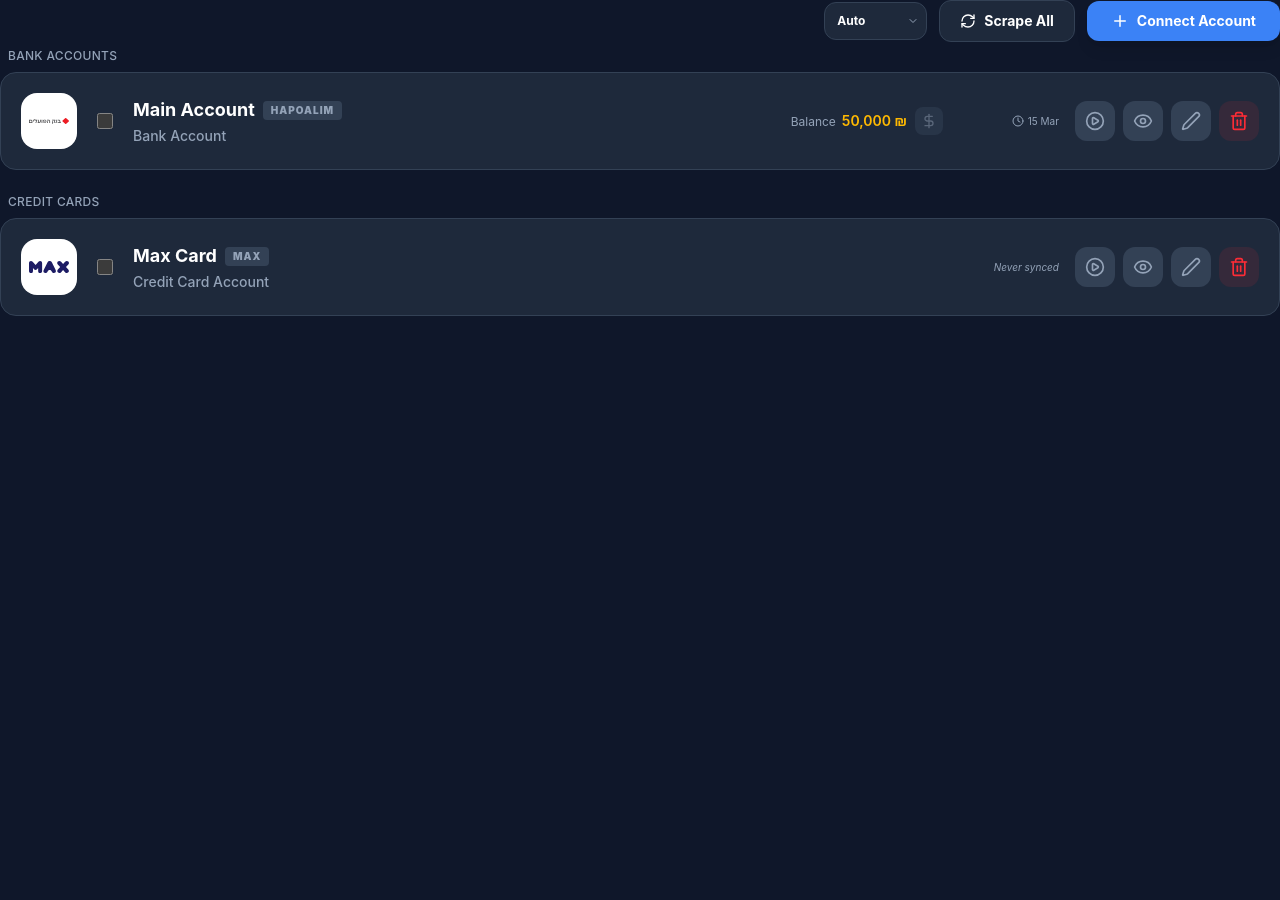
Test case: DataSources › disconnect account data choice › issues no request when the modal is cancelled
The width and height of the screenshot is (1280, 900).
Expected: the heading "Main Account" is shown, [133, 96, 255, 124]
Click the button named "disconnect account" in the row of "15 Mar" at (1239, 121), box [1219, 101, 1259, 141]
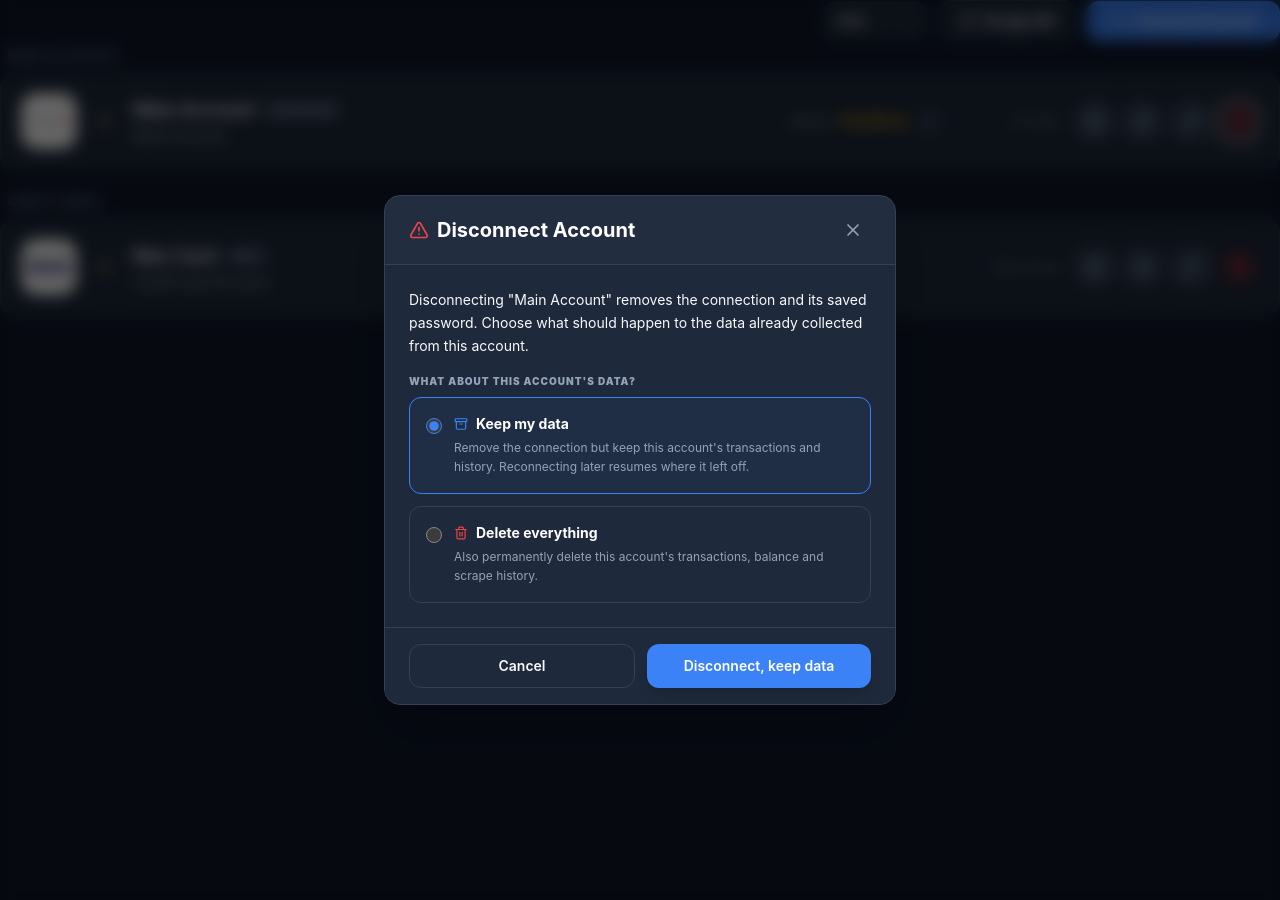
Click the button "Cancel" at (522, 666), box [409, 644, 635, 688]
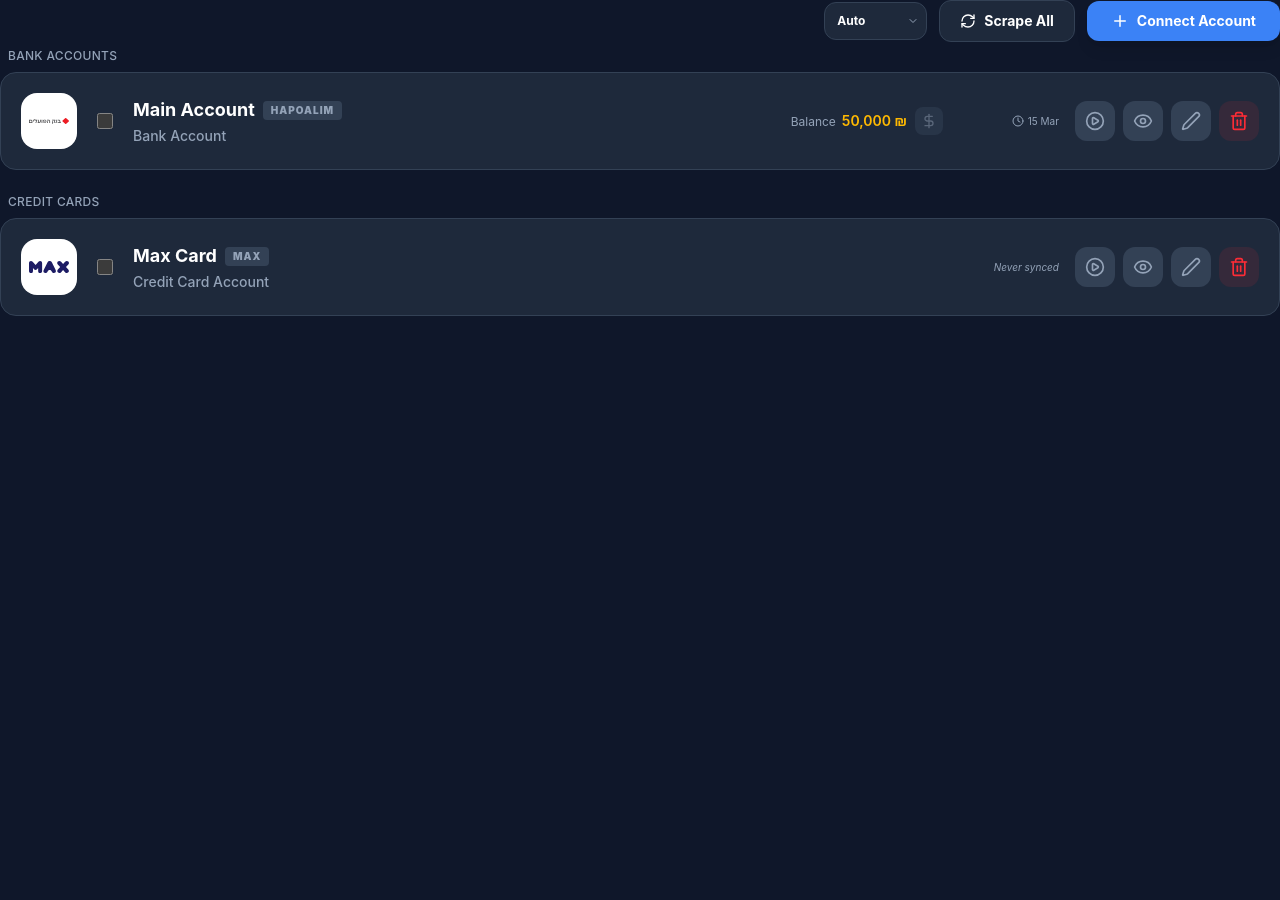
Result: the dialog is gone
